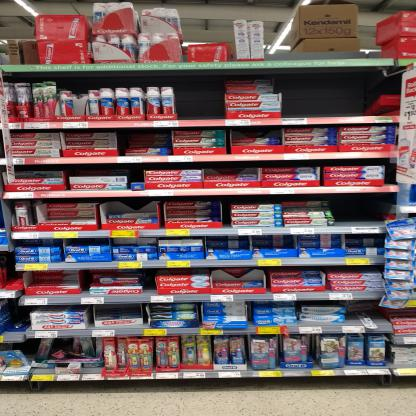Void: (287, 75, 380, 113), (180, 77, 223, 117), (330, 195, 379, 223), (344, 302, 378, 322)
